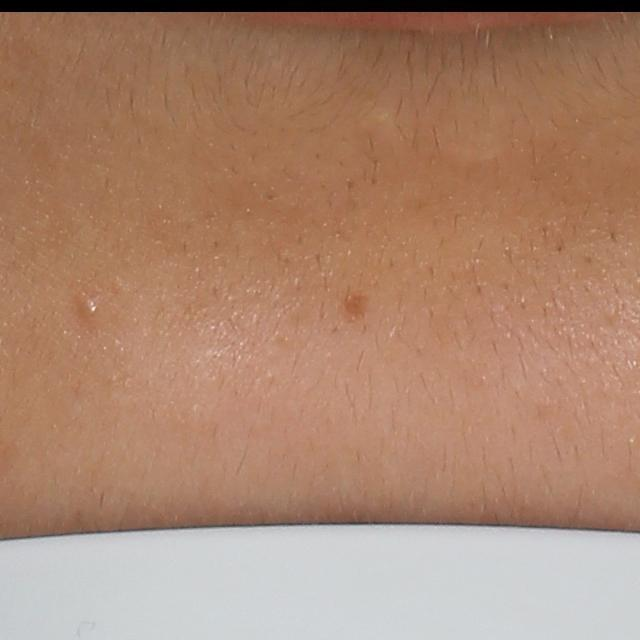comedo: (79, 288, 108, 326)
nevus: (343, 297, 367, 328)
